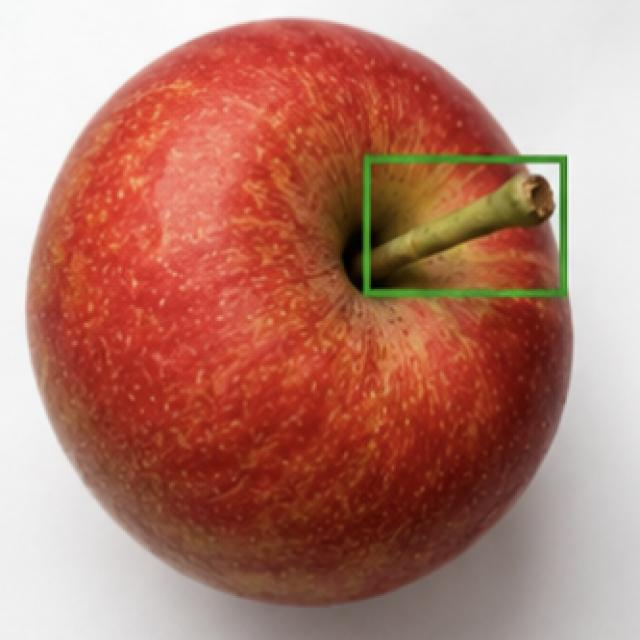Fruit-Stem-Detection: (362, 160, 565, 296), (376, 174, 554, 276)
